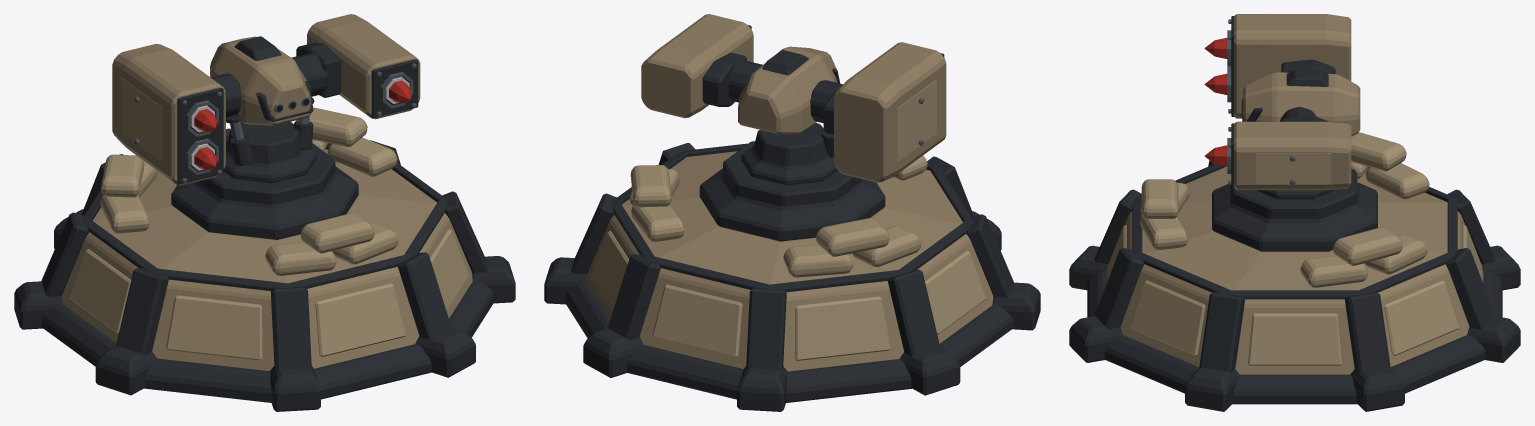
Rendered from lm2-lanza-n2.glb.
3 views of the same model, side by side, from view 1: azimuth 30°, elevation 25°; view 2: azimuth 150°, elevation 25°; view 3: azimuth 270°, elevation 25° (orthographic). The views are drawn at different scales.
Parts seen in each view (by area): view 1: casco, gun_pitch, turret_yaw, rocket_03, rocket_02, rocket_01; view 2: casco, gun_pitch, turret_yaw; view 3: casco, gun_pitch, turret_yaw.
Part boxes in pixels (x1,y1,x2,y2): casco: [14, 107, 515, 411]; gun_pitch: [112, 14, 420, 185]; turret_yaw: [223, 97, 316, 183]; rocket_03: [385, 77, 411, 103]; rocket_02: [191, 105, 216, 132]; rocket_01: [191, 143, 216, 170]; casco: [544, 127, 1040, 411]; gun_pitch: [641, 14, 946, 182]; turret_yaw: [741, 123, 837, 185]; casco: [1069, 132, 1520, 411]; gun_pitch: [1227, 14, 1360, 190]; turret_yaw: [1256, 189, 1335, 199].
Size of the model in its own units: 1 by 0.613 by 1.
